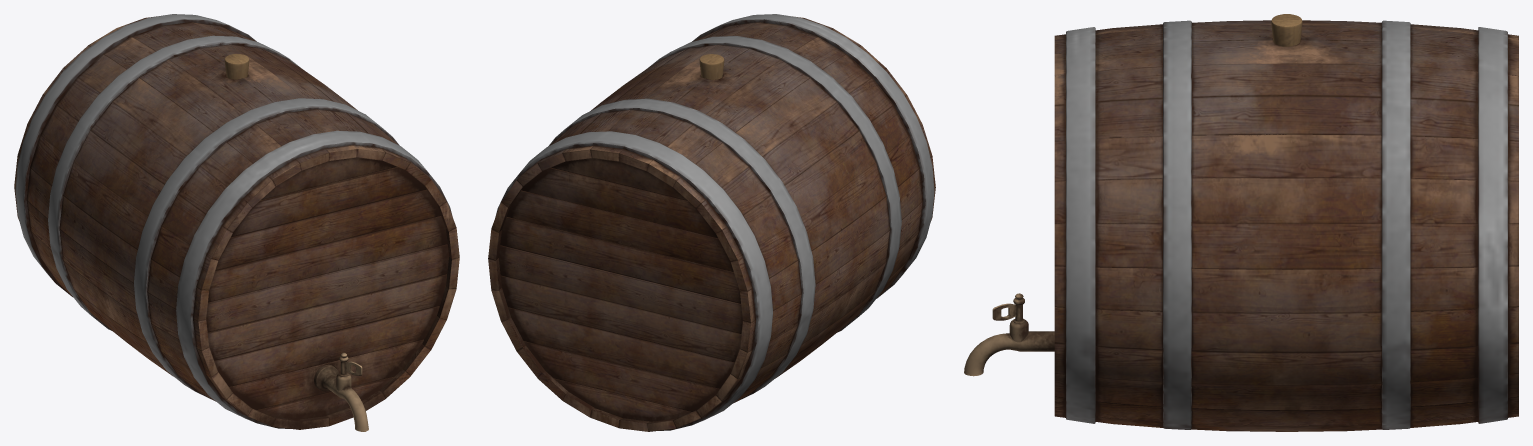
The model's file is new_oak.glb.
3 renders of one model, left to right at view 1: azimuth 30°, elevation 25°; view 2: azimuth 150°, elevation 25°; view 3: azimuth 270°, elevation 25°, orthographic. The views are drawn at different scales.
Parts seen in each view (by area): view 1: Barrel; view 2: Barrel; view 3: Barrel.
Part boxes in pixels (x1,y1,x2,y2): Barrel: (14,14,459,431); Barrel: (488,14,935,431); Barrel: (964,14,1518,431).
Bounding box in the file's own units: 2.55 × 2.68 × 3.43.
Materials: 1 (1 with a texture image).
